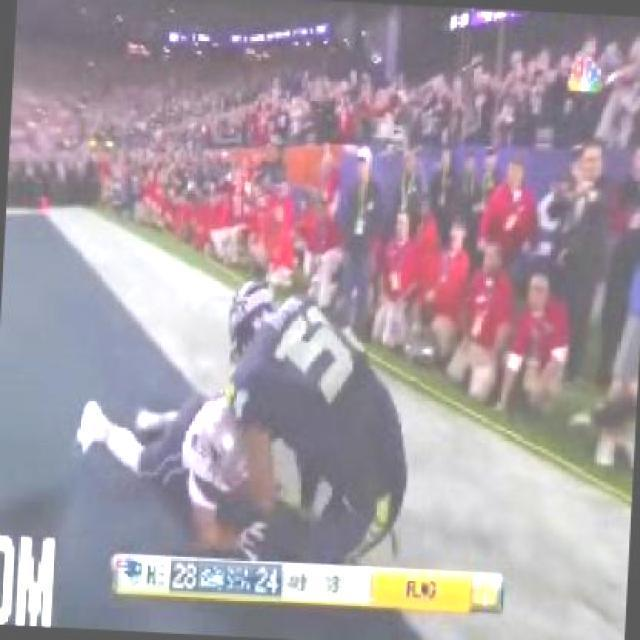fight: (65, 271, 412, 560)
